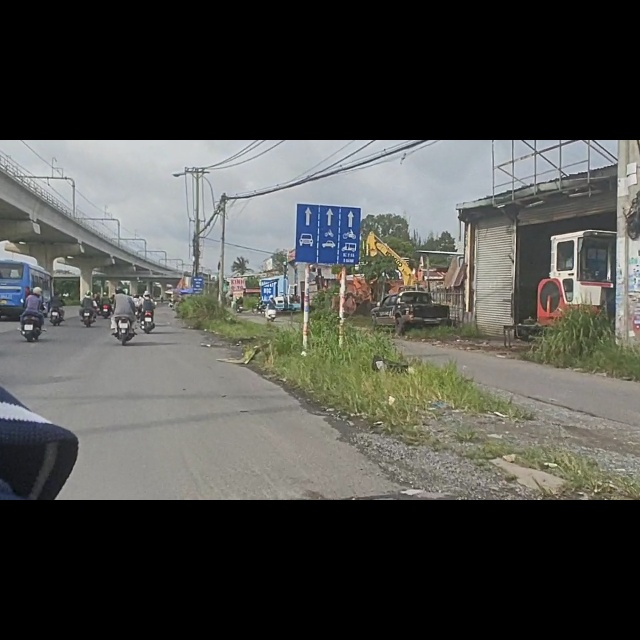bien_chi_dan: (294, 109, 360, 223)
